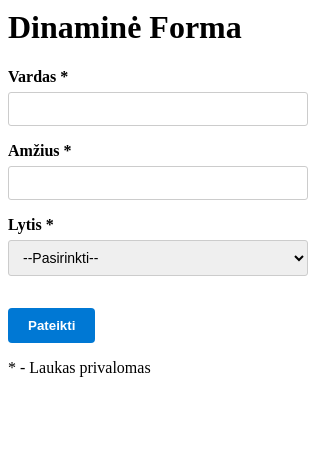
Test: DynamicForm - validation and conditions › Required fields › should show required errors on empty submit
This screenshot has width=325, height=451.
Click the button "Pateikti".
click(52, 326)  # box [8, 308, 95, 343]
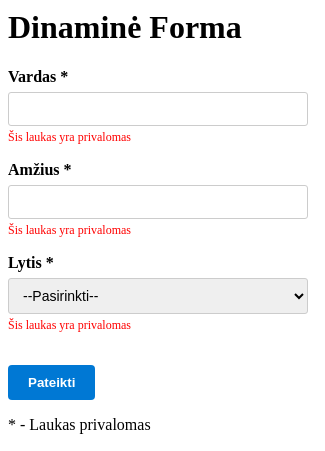
Expected: the text "Šis laukas yra privalomas" below "Vardas" is shown, [8, 130, 131, 144]
